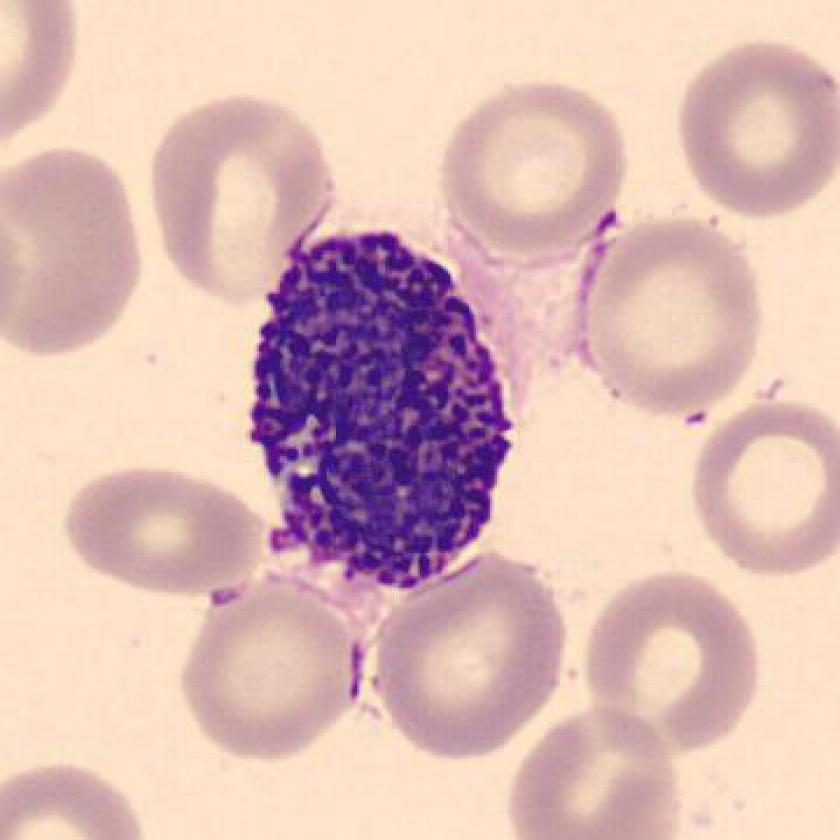basophil: (246, 223, 512, 598)
